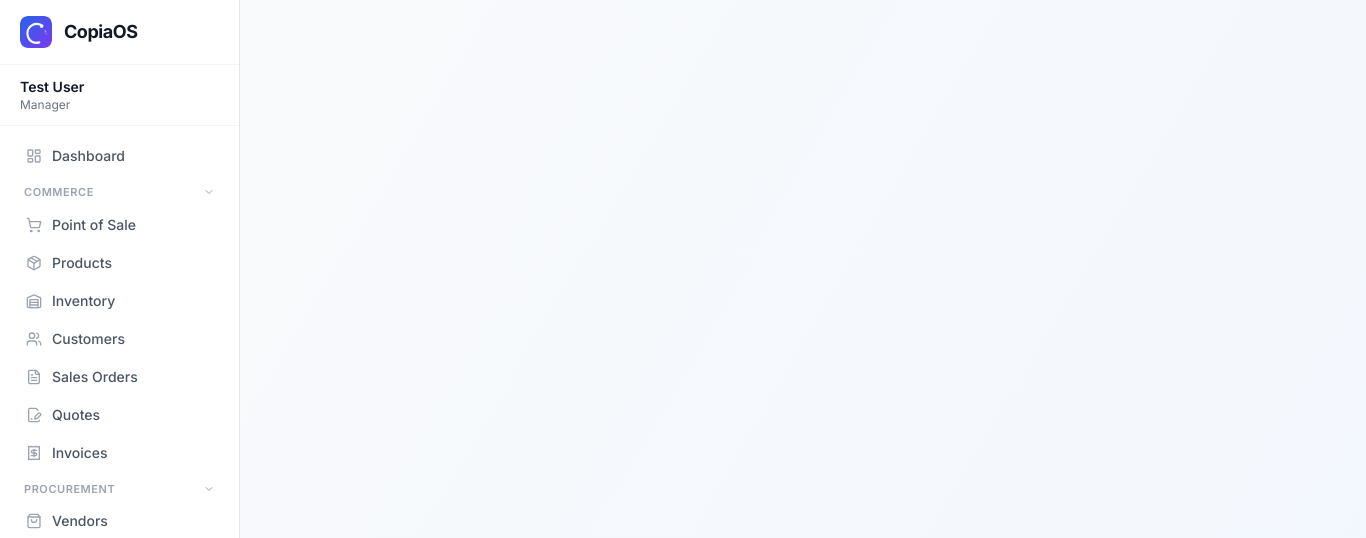
Test case: Sidebar › toggles section collapse
What coordinates should you click on to do the following:
click the button "Commerce"
I would click on:
 (120, 192)
Its box is [12, 178, 227, 206].
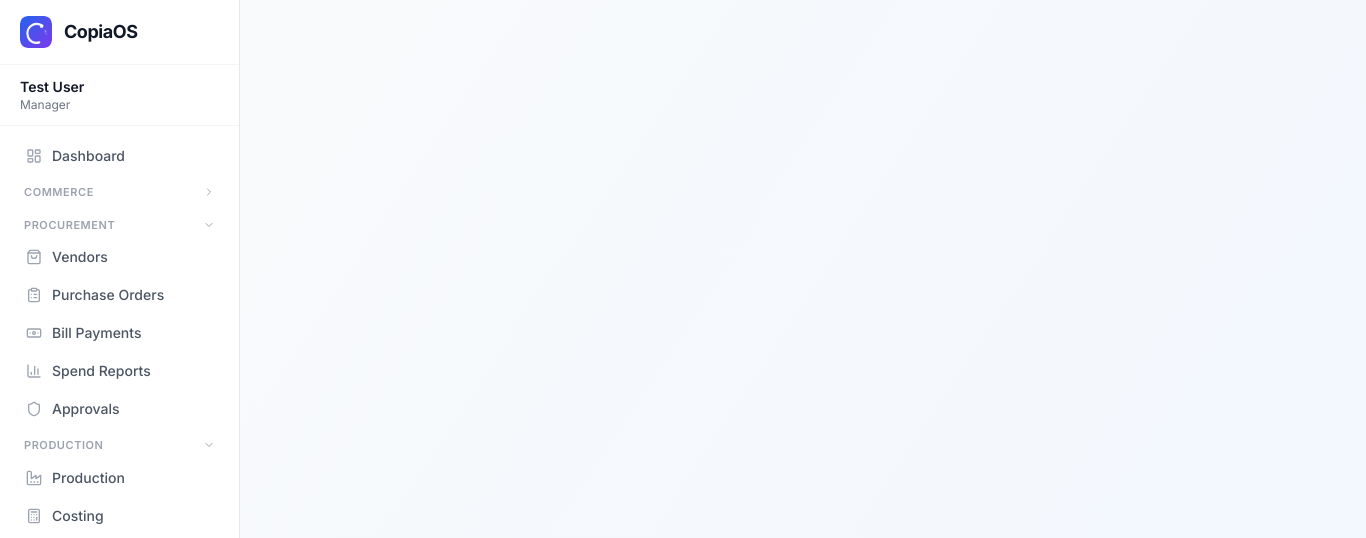
# After click, items should still be accessible (collapsed state)
What coordinates should you click on to do the following:
click the button "Commerce"
I would click on:
 (120, 192)
Its box is [12, 178, 227, 206].
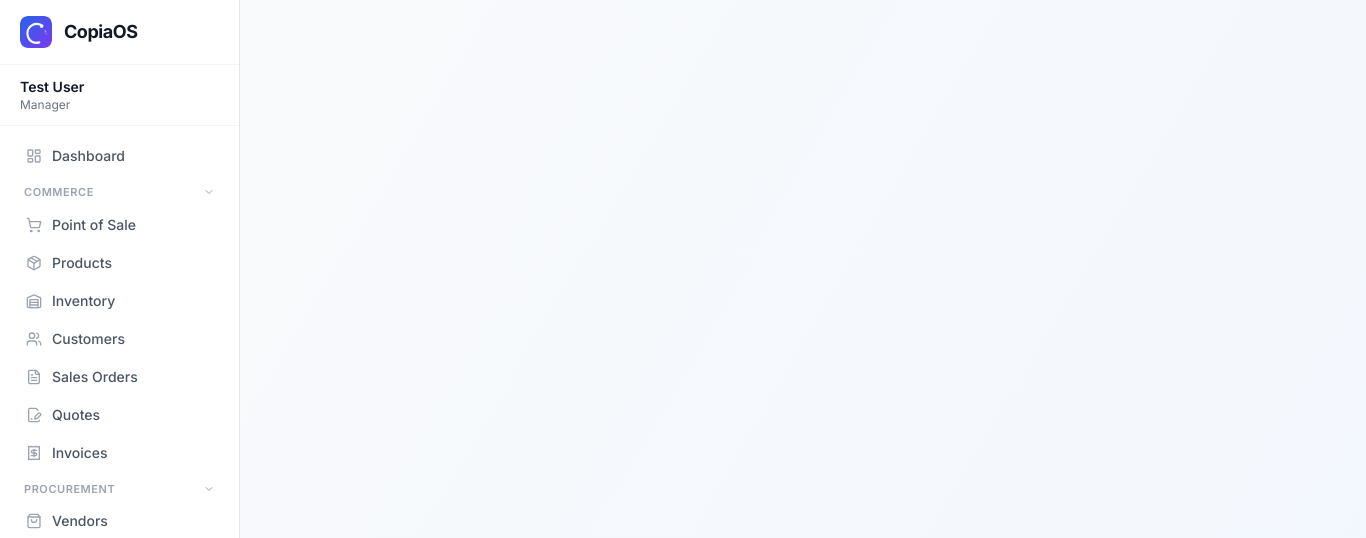
expect the text "Point of Sale" is shown: met, box [52, 214, 136, 234]
